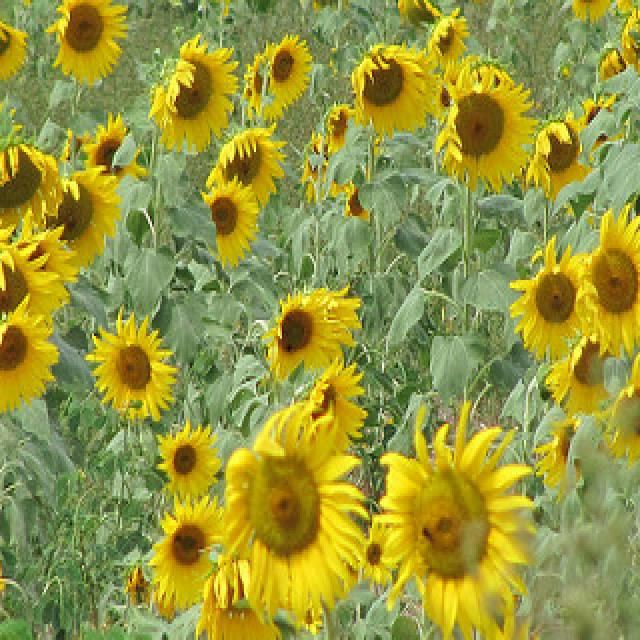sunflower: (368, 401, 538, 631), (217, 399, 371, 620), (87, 312, 183, 424), (142, 497, 232, 604), (568, 225, 640, 356), (441, 64, 521, 181), (154, 37, 234, 152), (24, 176, 122, 264), (510, 248, 582, 363), (268, 282, 346, 378), (0, 307, 66, 416), (48, 0, 124, 93), (0, 129, 64, 231), (354, 40, 420, 136), (209, 131, 285, 213), (194, 176, 260, 264), (154, 426, 220, 498), (530, 113, 584, 199), (81, 116, 139, 196), (267, 29, 309, 112), (419, 11, 473, 66), (321, 99, 357, 154), (0, 25, 24, 87), (342, 177, 372, 223)
